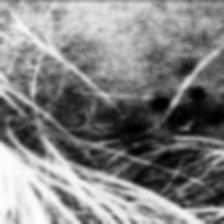Toxin: (172, 106, 197, 136), (192, 78, 208, 104), (118, 124, 144, 138), (153, 92, 170, 110), (124, 148, 150, 158), (208, 107, 222, 125), (162, 150, 172, 160)
